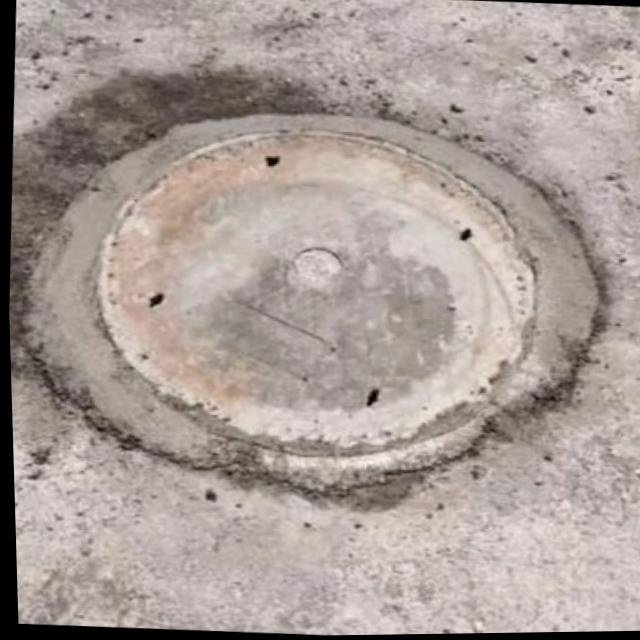manhole: (19, 81, 608, 506)
